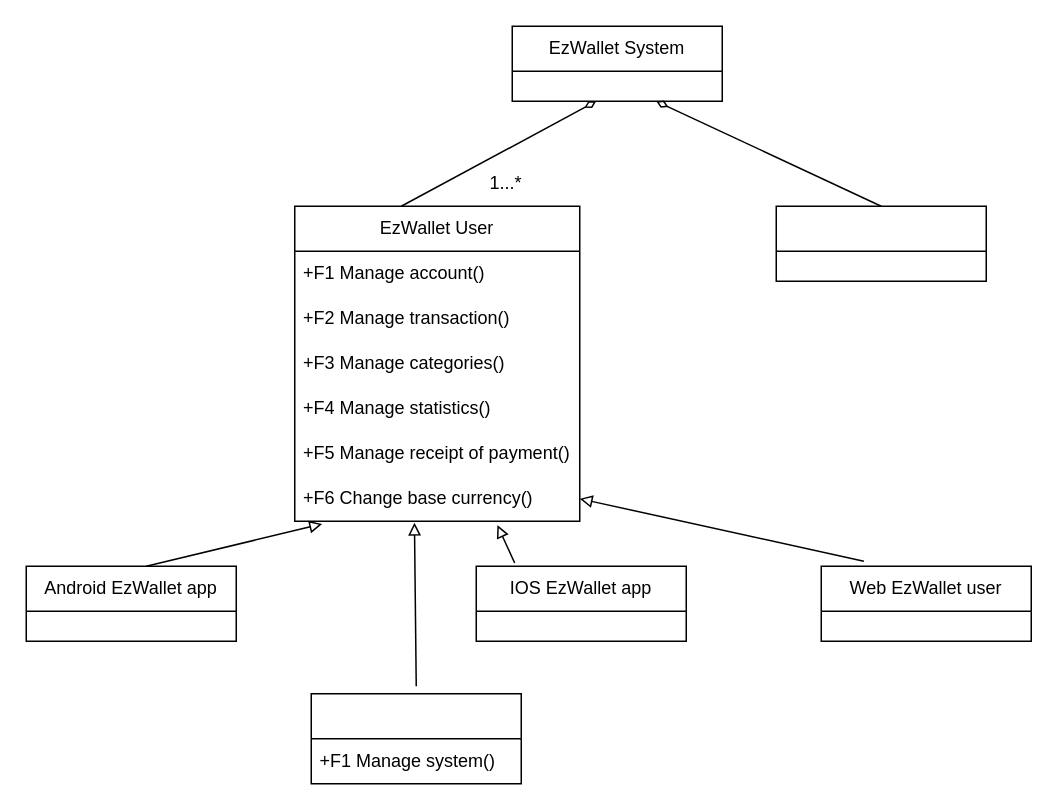
This 1058x810 diagram has some shape labels left out. Each missing label, with the box of its shape:
EzWallet Developer Team: (310, 692, 521, 784)
EzWallet Server: (775, 205, 986, 281)
